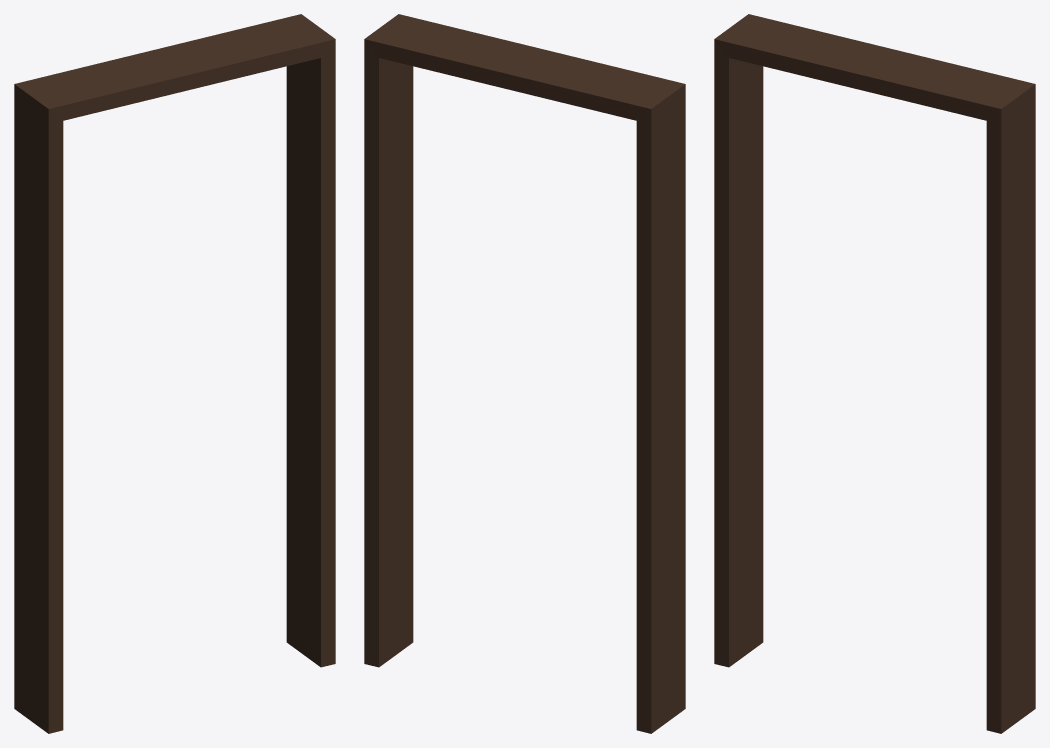
The model's file is Door_Ext_Frame1.fbx.
3 renders of one model, left to right at view 1: azimuth 30°, elevation 25°; view 2: azimuth 150°, elevation 25°; view 3: azimuth 330°, elevation 25°, orthographic.
Parts seen in each view (by area): view 1: Door Frame (Exterior); view 2: Door Frame (Exterior); view 3: Door Frame (Exterior).
Part boxes in pixels (x1,y1,x2,y2): Door Frame (Exterior): [14, 14, 335, 733]; Door Frame (Exterior): [364, 14, 685, 733]; Door Frame (Exterior): [714, 14, 1035, 733].
Bounding box in the file's own units: 97.67 × 203 × 20.22.
